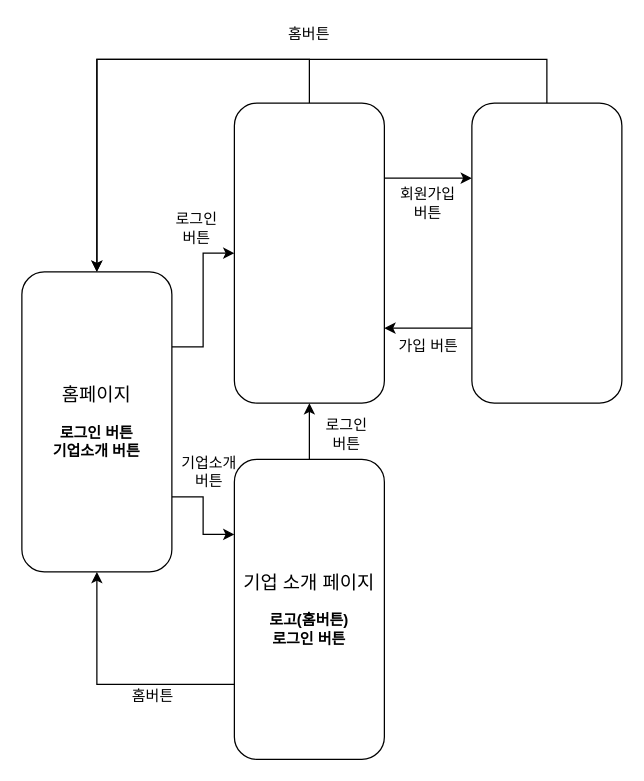
Some shapes in this 644 by 781 pixel diagram are drawn without their labels. The shapes that lost their labels are listed below. From the top down, each one's centre as x and y in pixels, then its label:
At (x=308, y=252): "로그인페이지 로고(홈버튼) 아이디 비밀번호 로그인버튼 회원가입 버튼".
At (x=546, y=252): "회원가입 로고(홈버튼) 이름 아이디 비밀번호 이메일 전화번호 생년월일 가입 버튼".
